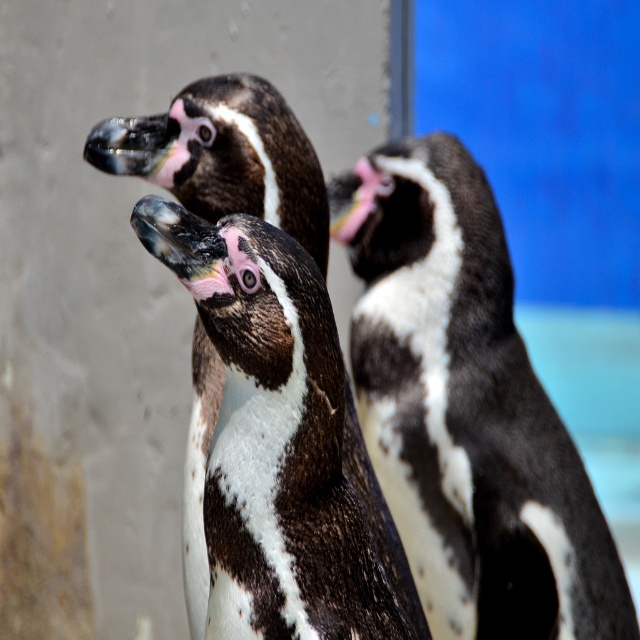Penguin: (77, 68, 335, 639), (336, 133, 632, 627), (130, 195, 436, 639)
